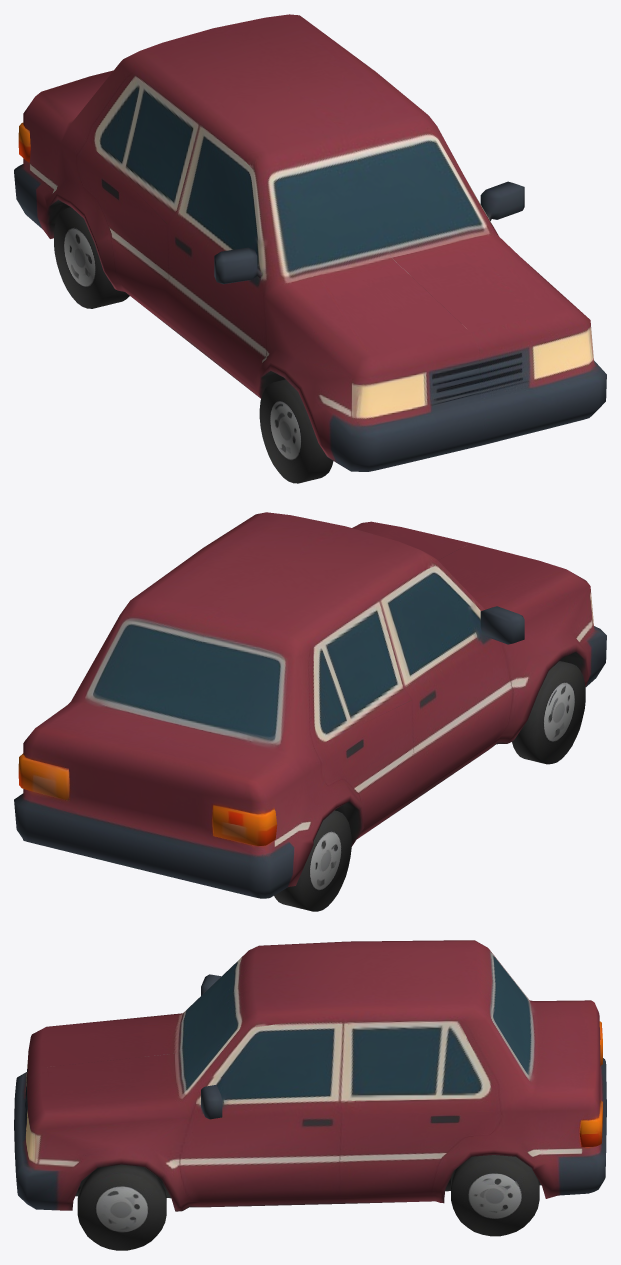
The model's file is VEH_CAR_A01.glb.
3 views of the same model, one above another, from view 1: azimuth 30°, elevation 25°; view 2: azimuth 150°, elevation 25°; view 3: azimuth 270°, elevation 25° (orthographic). The views are drawn at different scales.
Parts seen in each view (by area): view 1: tripo_node_e1f6c188-5759-4b47-bfcb-7db7a9eeec01; view 2: tripo_node_e1f6c188-5759-4b47-bfcb-7db7a9eeec01; view 3: tripo_node_e1f6c188-5759-4b47-bfcb-7db7a9eeec01.
Boxes of the visible parts, box(x1,y1,x2,y2) form: tripo_node_e1f6c188-5759-4b47-bfcb-7db7a9eeec01: box(14, 14, 606, 483); tripo_node_e1f6c188-5759-4b47-bfcb-7db7a9eeec01: box(14, 512, 606, 911); tripo_node_e1f6c188-5759-4b47-bfcb-7db7a9eeec01: box(14, 940, 606, 1250).
Size of the model in its own units: 0.5083 by 0.4175 by 0.9995.
Materials: 1 (1 with a texture image).
